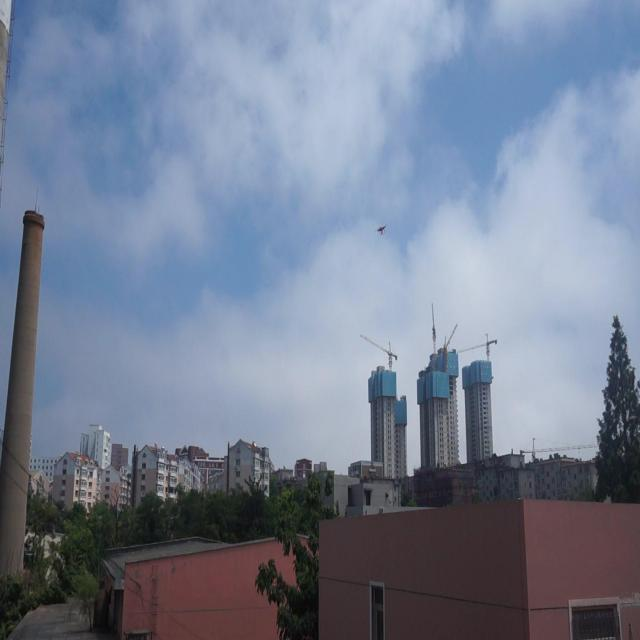UAV: (374, 224, 388, 236)
